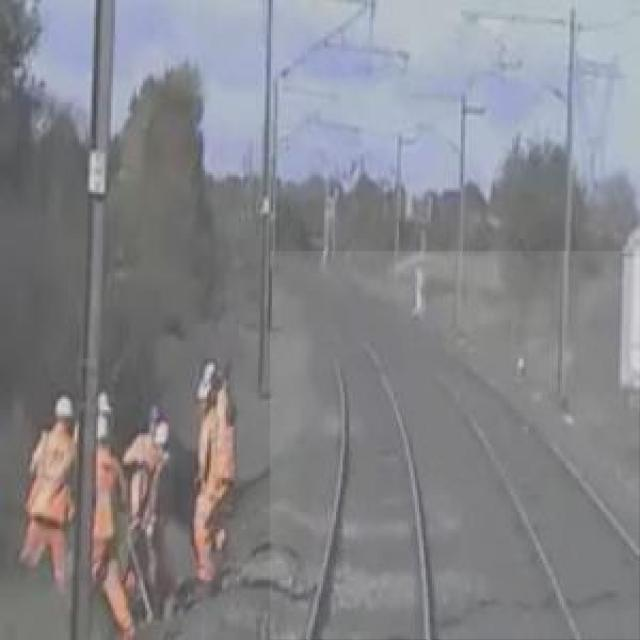rail: (271, 252, 640, 640)
